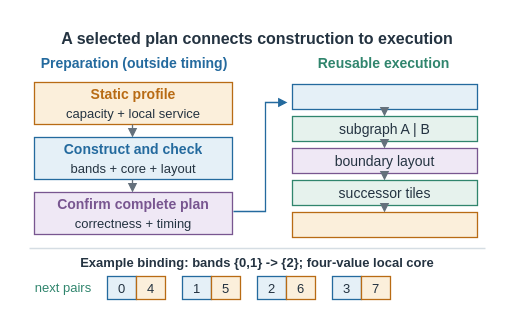
This 514x326 diagram has some shape labels left out. Here are the shapes that lost their labels. From the top down, the centre of each, then its label:
At (x=384, y=96): "input".
At (x=384, y=224): "output".
